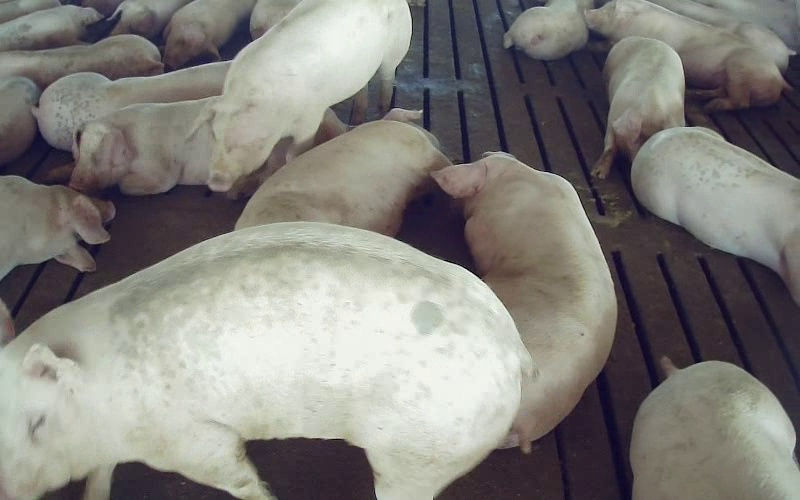pig: (0, 222, 532, 499), (433, 153, 616, 452), (631, 128, 799, 304), (235, 108, 450, 235), (630, 357, 799, 499), (584, 0, 789, 109), (33, 61, 229, 150), (70, 98, 212, 194), (591, 37, 684, 178), (0, 35, 163, 89), (0, 5, 102, 51), (111, 0, 188, 38)
